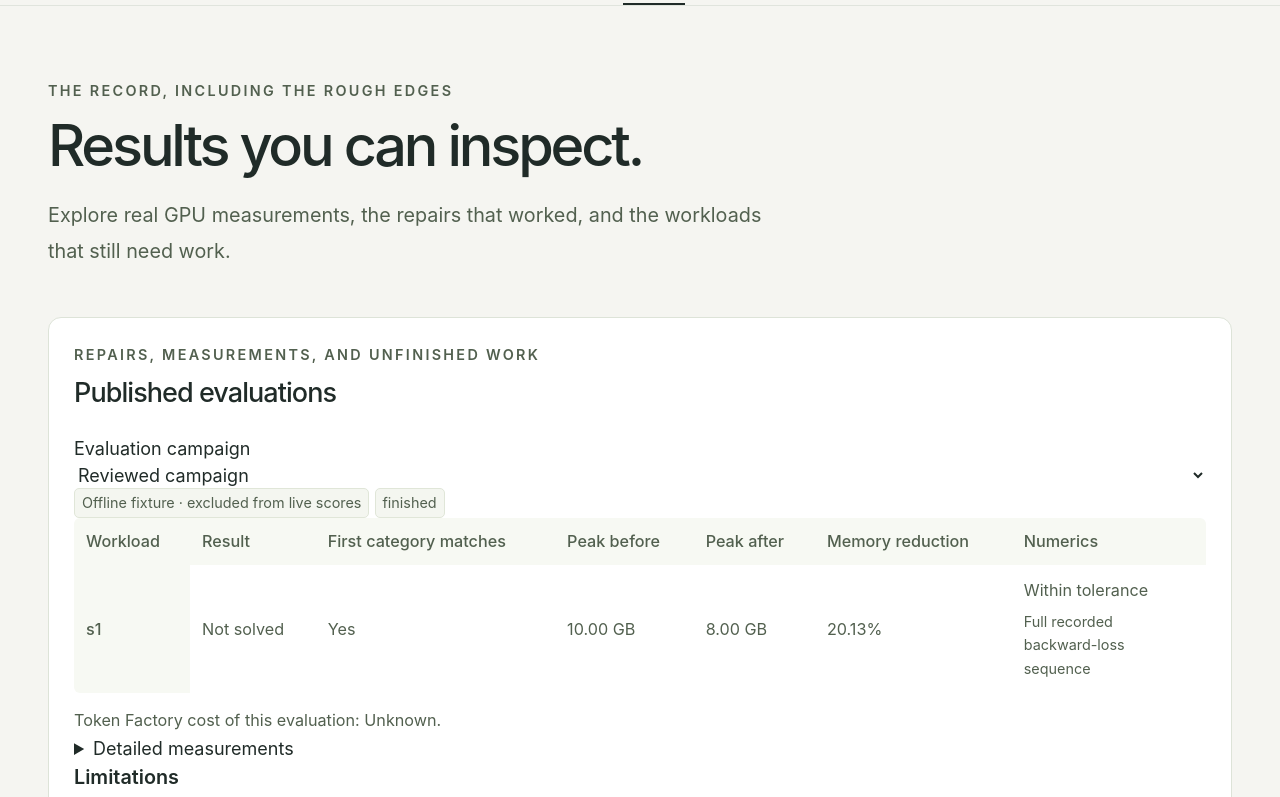
keeps historical campaign search mode unrecorded
What coordinates should you click on to do the following:
click the heading "Detailed measurements"
I would click on:
 (193, 748)
Its box is [93,738,294,759].
(page scrolled)
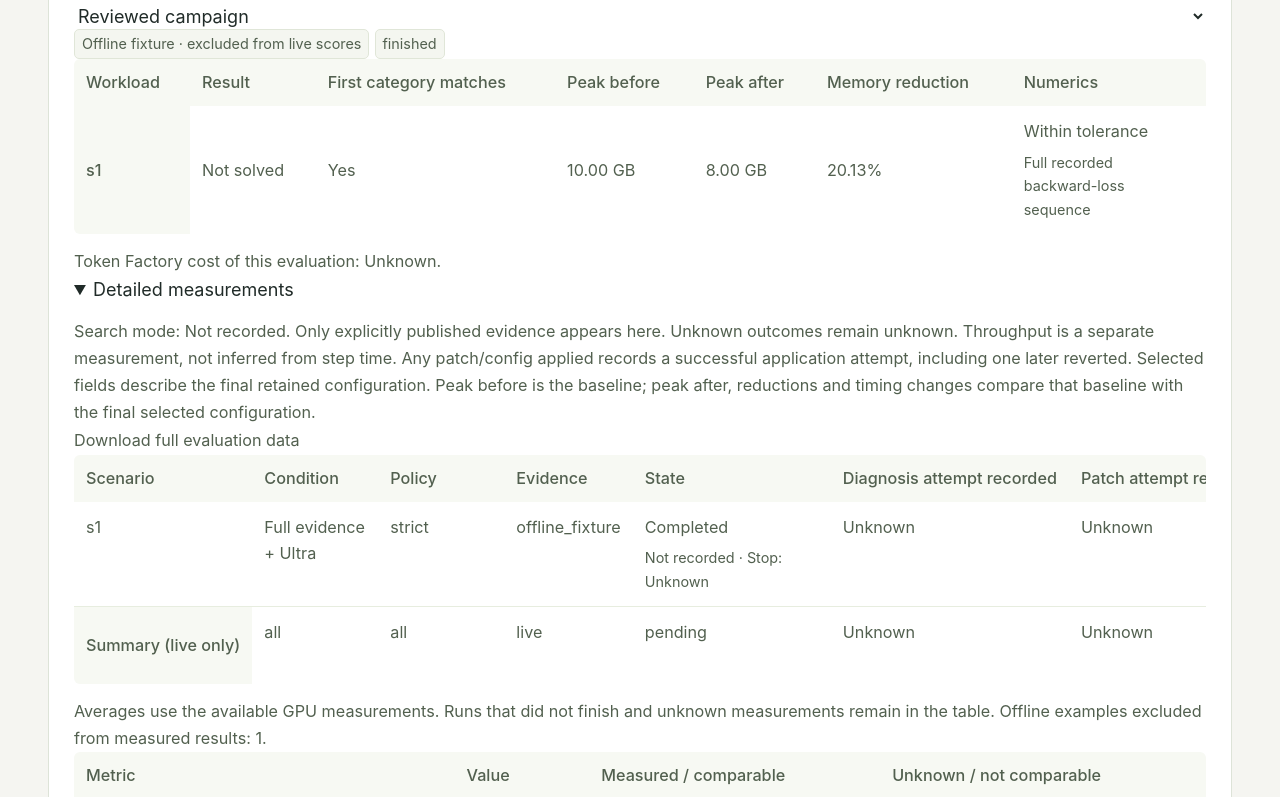
Check: the text "Search mode: Not recorded" is shown, box [74,318,1206,425]
